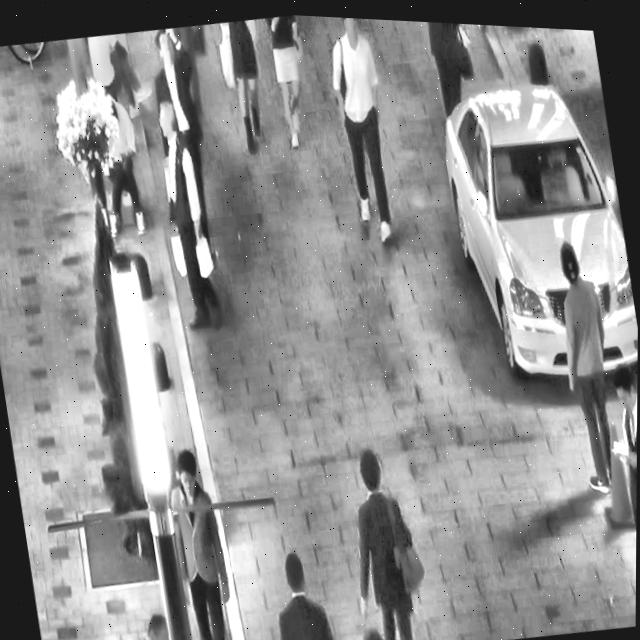light_vehicle: (426, 44, 640, 399)
